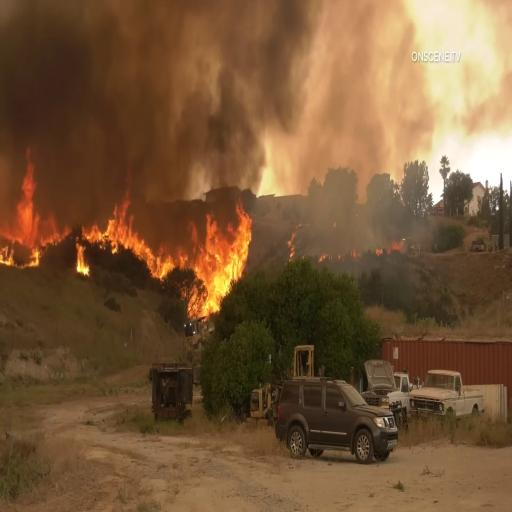fire: (0, 168, 70, 270), (193, 214, 247, 314), (79, 194, 131, 250), (147, 229, 173, 287)
smoke: (0, 1, 171, 150)
